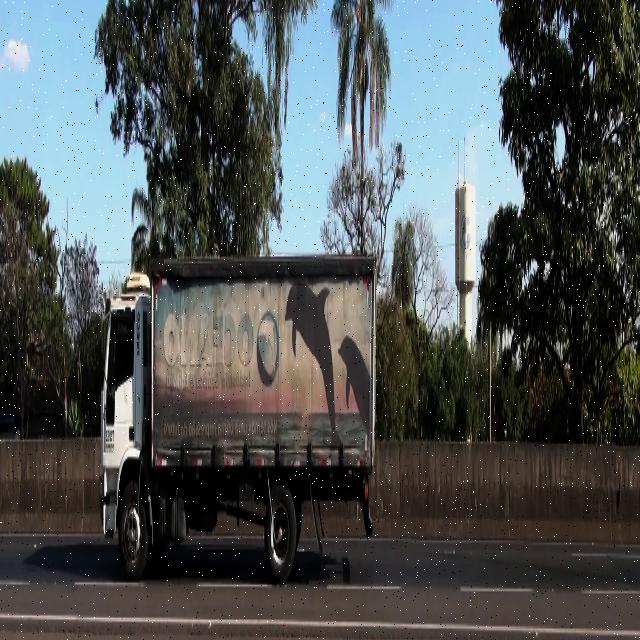-axle: (114, 482, 151, 583), (265, 486, 295, 588)
